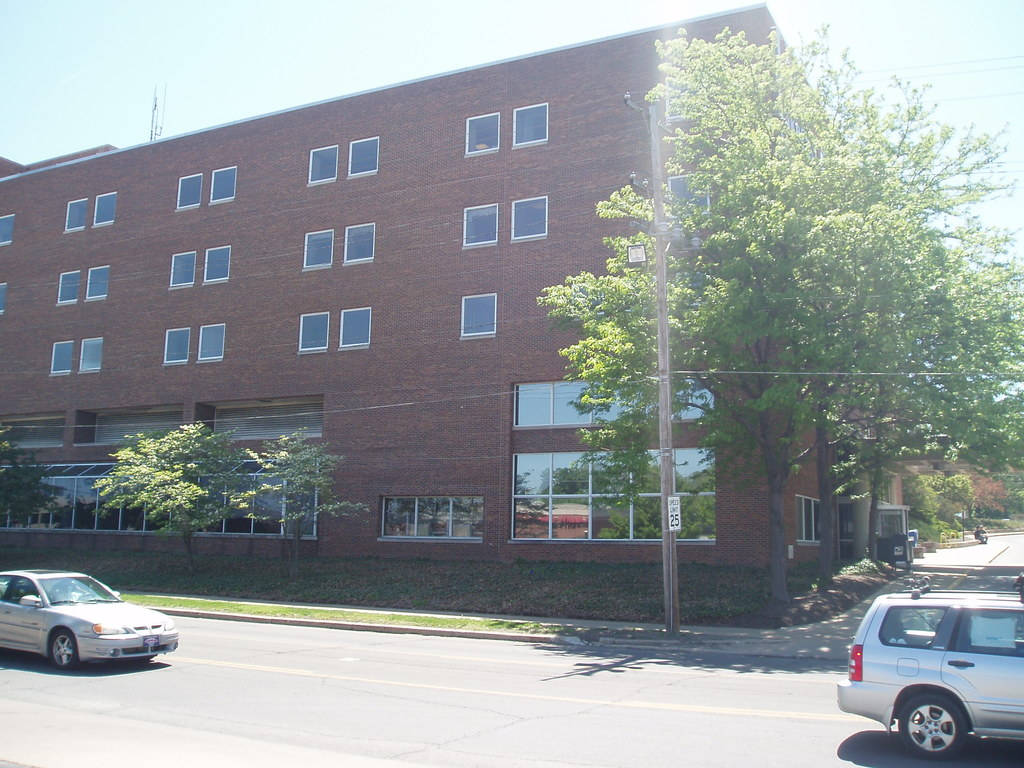Car: (837, 574, 1023, 760), (0, 567, 177, 669)
